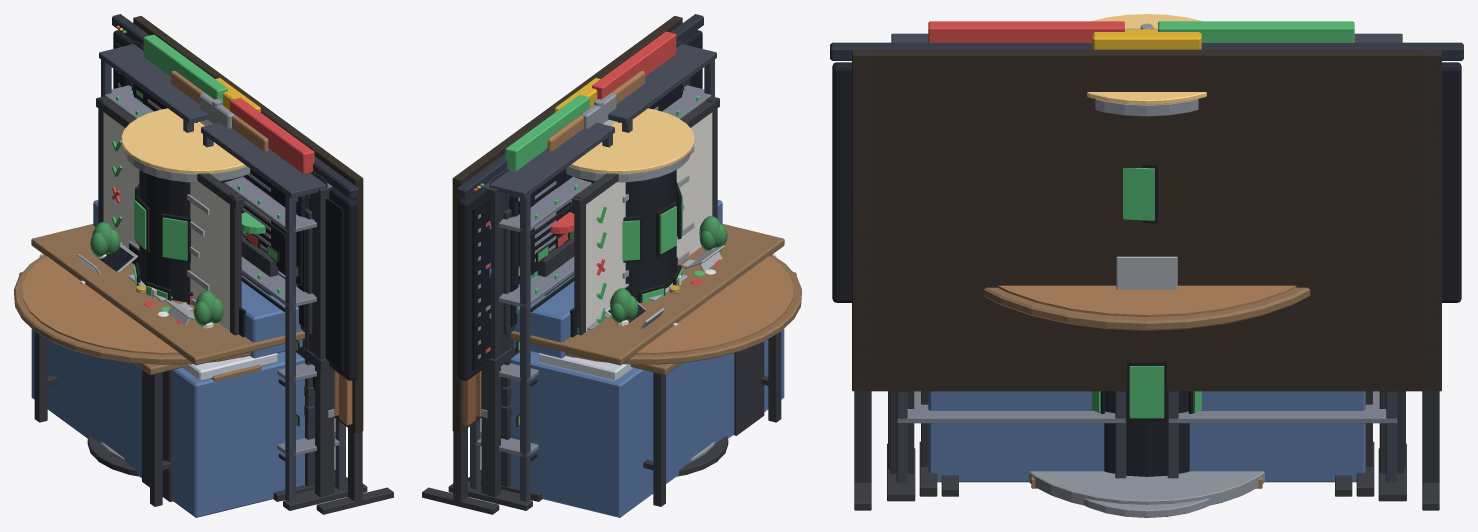
The model's file is stations.glb.
The picture shows the model from 3 angles, left to right: view 1: azimuth 30°, elevation 25°; view 2: azimuth 150°, elevation 25°; view 3: azimuth 270°, elevation 25°; orthographic projection. The views are drawn at different scales.
Parts seen in each view (by area): view 1: QAControlPanel, QADeviceRack, QADeviceTower, ReviewHuddle, QACheckboard, QALogStation, ReviewDiffSplit, ReviewCockpit, QAMonitorWall, QADeviceWall, QABench, ReviewWall (+3 smaller); view 2: QAControlPanel, QADeviceRack, QADeviceTower, QACheckboard, ReviewHuddle, QALogStation, ReviewDiffSplit, ReviewCockpit, QAMonitorWall, QADeviceWall, QABench, ReviewWall (+3 smaller); view 3: ReviewCockpit, QAControlPanel, QADeviceTower, ReviewDiffSplit, ReviewHuddle, QADeviceRack, QADeviceWall, QAMatrix, ReviewGlassWall, QABugBoard, QAMonitorWall, ReviewDiffScreen.
Boxes of the visible parts, left/top/right/bottom form: QAControlPanel: left=31, top=200, right=304, bottom=517; QADeviceRack: left=99, top=44, right=345, bottom=501; QADeviceTower: left=101, top=108, right=250, bottom=461; ReviewHuddle: left=14, top=243, right=250, bottom=476; QACheckboard: left=80, top=96, right=243, bottom=335; QALogStation: left=31, top=83, right=306, bottom=365; ReviewDiffSplit: left=90, top=14, right=358, bottom=380; ReviewCockpit: left=129, top=16, right=393, bottom=514; QAMonitorWall: left=124, top=44, right=347, bottom=510; QADeviceWall: left=143, top=34, right=347, bottom=500; QABench: left=19, top=235, right=278, bottom=506; ReviewWall: left=142, top=369, right=172, bottom=501; QAControlPanel: left=511, top=200, right=784, bottom=517; QADeviceRack: left=470, top=44, right=716, bottom=501; QADeviceTower: left=565, top=108, right=714, bottom=461; QACheckboard: left=572, top=96, right=719, bottom=335; ReviewHuddle: left=565, top=245, right=801, bottom=476; QALogStation: left=509, top=83, right=784, bottom=365; ReviewDiffSplit: left=457, top=14, right=721, bottom=380; ReviewCockpit: left=422, top=16, right=727, bottom=514; QAMonitorWall: left=468, top=44, right=715, bottom=510; QADeviceWall: left=468, top=31, right=676, bottom=500; QABench: left=537, top=238, right=796, bottom=506; ReviewWall: left=733, top=342, right=764, bottom=435; ReviewCockpit: left=852, top=49, right=1441, bottom=510; QAControlPanel: left=928, top=391, right=1365, bottom=482; QADeviceTower: left=1028, top=14, right=1265, bottom=505; ReviewDiffSplit: left=830, top=42, right=1463, bottom=517; ReviewHuddle: left=983, top=256, right=1310, bottom=330; QADeviceRack: left=891, top=29, right=1402, bottom=482; QADeviceWall: left=919, top=21, right=1374, bottom=495; QAMatrix: left=898, top=391, right=1395, bottom=501; ReviewGlassWall: left=887, top=391, right=1406, bottom=501; QABugBoard: left=919, top=391, right=1374, bottom=496; QAMonitorWall: left=887, top=391, right=1406, bottom=488; ReviewDiffScreen: left=941, top=475, right=1352, bottom=496.
Size of the model in its own units: 1.9 by 2.27 by 2.9.
